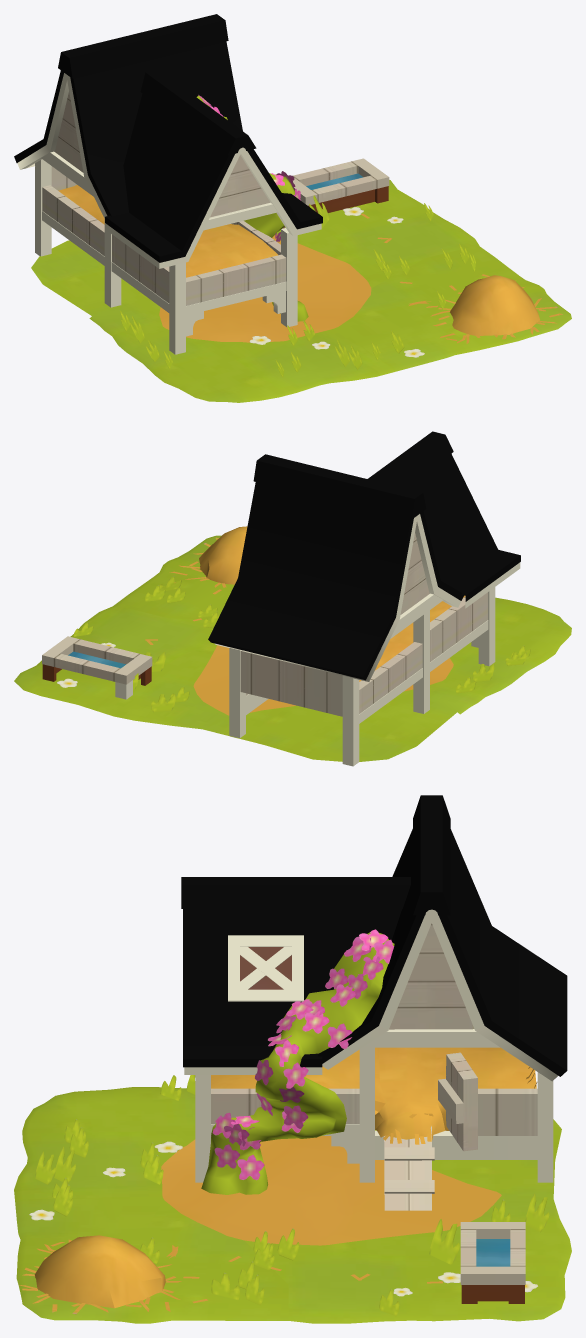
The model's file is SheepHome.fbx.
3 renders of one model, top to bottom at view 1: azimuth 30°, elevation 25°; view 2: azimuth 150°, elevation 25°; view 3: azimuth 270°, elevation 25°, orthographic. The views are drawn at different scales.
Parts seen in each view (by area): view 1: B_SpringSerenade_Sheep_Home, B_SpringSerenade_Pasture_Sheep, B_SpringSerenade_Sheep_Home_Grass, B_SpringSerenade_Sheep_Home_Vegetation; view 2: B_SpringSerenade_Sheep_Home, B_SpringSerenade_Pasture_Sheep, B_SpringSerenade_Sheep_Home_Grass; view 3: B_SpringSerenade_Sheep_Home, B_SpringSerenade_Pasture_Sheep, B_SpringSerenade_Sheep_Home_Vegetation, B_SpringSerenade_Sheep_Home_Grass.
Part boxes in pixels (x1,y1,x2,y2): B_SpringSerenade_Sheep_Home: (14, 14, 562, 354); B_SpringSerenade_Pasture_Sheep: (31, 180, 571, 402); B_SpringSerenade_Sheep_Home_Grass: (120, 195, 475, 377); B_SpringSerenade_Sheep_Home_Vegetation: (196, 95, 308, 321); B_SpringSerenade_Sheep_Home: (42, 431, 520, 766); B_SpringSerenade_Pasture_Sheep: (14, 535, 571, 761); B_SpringSerenade_Sheep_Home_Grass: (57, 576, 530, 712); B_SpringSerenade_Sheep_Home: (19, 795, 567, 1314); B_SpringSerenade_Pasture_Sheep: (14, 1087, 571, 1323); B_SpringSerenade_Sheep_Home_Vegetation: (201, 929, 394, 1194); B_SpringSerenade_Sheep_Home_Grass: (29, 1075, 549, 1316).
Bounding box in the file's own units: 1009 × 613 × 1004.
